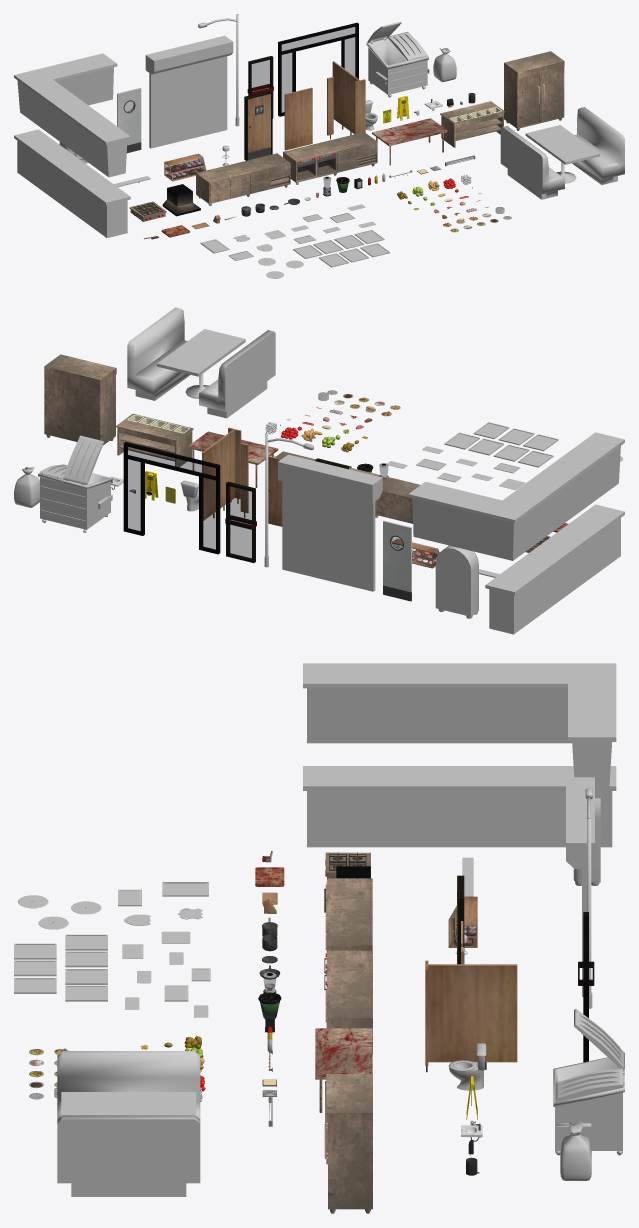
3 renders of one model, top to bottom at view 1: azimuth 30°, elevation 25°; view 2: azimuth 150°, elevation 25°; view 3: azimuth 270°, elevation 25°, orthographic. The views are drawn at different scales.
Visible parts, largest first — view 1: SM_RestaurantCounter, SM_EmergencyDoor, SM_Tables, SM_Fridge, SM_TrashBin, SM_KitchenCounter, SM_KitchenOven, SM_EntranceDoorStand, SM_VegetableCounter, SM_ToiletCabin02, SM_ToiletDoor, SM_ToiletCabinDoor (+10 smaller); view 2: SM_RestaurantCounter, SM_EmergencyDoor, SM_Tables, SM_Fridge, SM_EntranceDoorStand, SM_TrashBin, SM_Jukebox, SM_VegetableCounter, SM_ToiletCabin02, SM_EntranceDoor, SM_KitchenDoor, SM_KitchenCounter (+6 smaller); view 3: SM_RestaurantCounter, SM_Tables, SM_ToiletCabin02, SM_TrashBin, SM_Fridge, SM_KitchenOven, SM_KitchenCounter, SM_ButcherTable, SM_EmergencyDoor, SM_Trash, SM_Toilet, SM_DonutCounter (+3 smaller).
Part boxes in pixels (box(x1,y1,x2,y2)): SM_RestaurantCounter: box(14, 53, 130, 237); SM_EmergencyDoor: box(145, 35, 233, 148); SM_Tables: box(500, 107, 624, 199); SM_Fridge: box(504, 51, 564, 130); SM_TrashBin: box(366, 21, 429, 97); SM_KitchenCounter: box(196, 153, 290, 205); SM_KitchenOven: box(283, 132, 377, 184); SM_EntranceDoorStand: box(278, 22, 358, 116); SM_VegetableCounter: box(440, 101, 504, 147); SM_ToiletCabin02: box(332, 61, 365, 135); SM_ToiletDoor: box(244, 90, 272, 160); SM_ToiletCabinDoor: box(284, 87, 312, 150); SM_RestaurantCounter: box(408, 432, 624, 634); SM_EmergencyDoor: box(278, 454, 382, 591); SM_Tables: box(127, 307, 275, 418); SM_Fridge: box(44, 354, 116, 445); SM_EntranceDoorStand: box(123, 442, 220, 554); SM_TrashBin: box(38, 435, 112, 532); SM_Jukebox: box(435, 545, 478, 618); SM_VegetableCounter: box(116, 413, 193, 466); SM_ToiletCabin02: box(202, 427, 241, 520); SM_EntranceDoor: box(225, 481, 256, 562); SM_KitchenDoor: box(383, 520, 411, 601); SM_KitchenCounter: box(375, 476, 420, 523); SM_RestaurantCounter: box(303, 663, 616, 847); SM_Tables: box(57, 1051, 200, 1196); SM_ToiletCabin02: box(425, 960, 517, 1072); SM_TrashBin: box(553, 1009, 624, 1155); SM_Fridge: box(324, 1074, 372, 1213); SM_KitchenOven: box(325, 950, 372, 1053); SM_KitchenCounter: box(325, 878, 372, 951); SM_ButcherTable: box(315, 1028, 372, 1112); SM_EmergencyDoor: box(566, 777, 594, 996); SM_Trash: box(560, 1121, 591, 1180); SM_Toilet: box(448, 1043, 486, 1090); SM_DonutCounter: box(448, 896, 477, 947).
Size of the model in its own units: 15.87 by 3.64 by 10.61.
